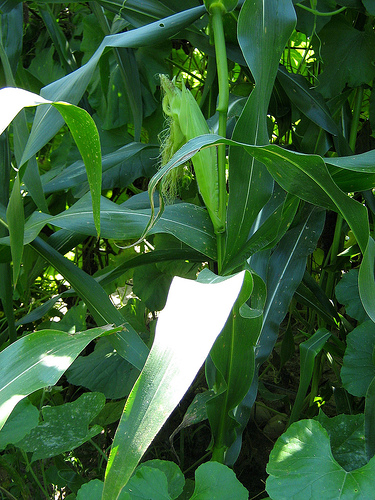corn: (151, 71, 223, 223)
